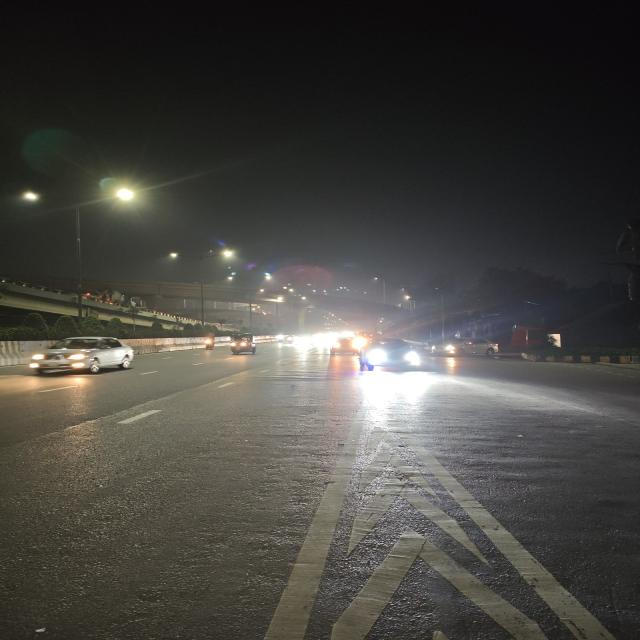car: (23, 334, 146, 380), (358, 336, 428, 375), (430, 338, 502, 358), (327, 334, 361, 358)
cng: (224, 332, 261, 356)
motorcycle: (200, 334, 219, 354)
